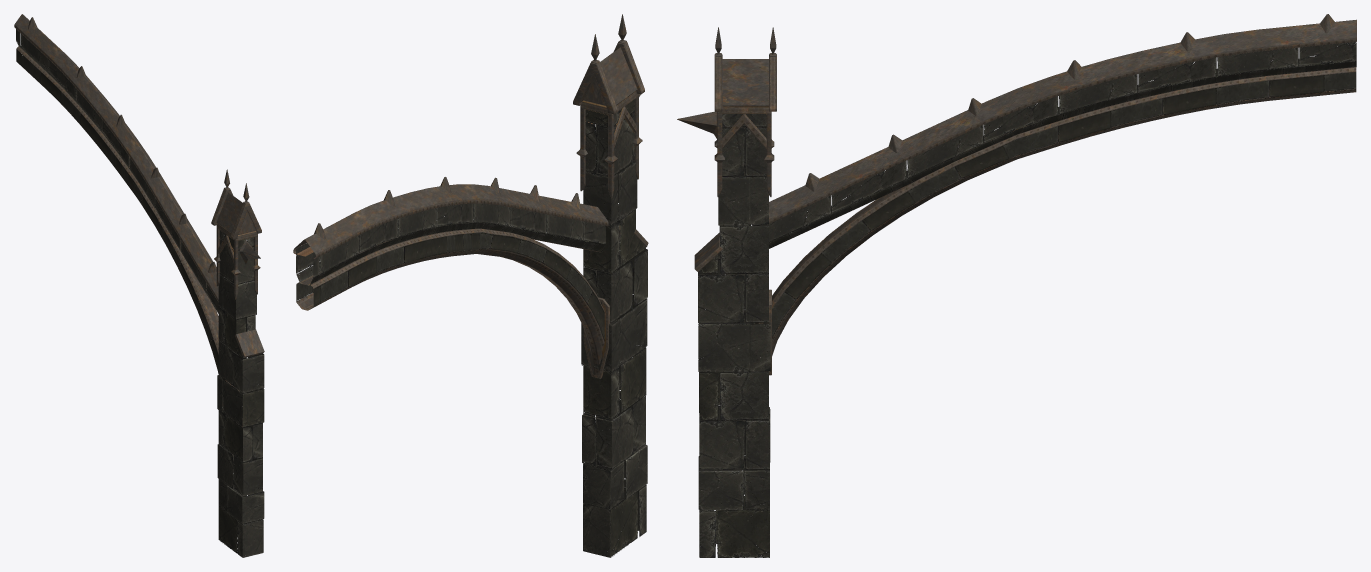
3 views of the same model, side by side, from view 1: azimuth 30°, elevation 25°; view 2: azimuth 150°, elevation 25°; view 3: azimuth 270°, elevation 25° (orthographic). The views are drawn at different scales.
Visible parts, largest first — view 1: SM_Library_Support_Arch_01_LOD0; view 2: SM_Library_Support_Arch_01_LOD0; view 3: SM_Library_Support_Arch_01_LOD0.
Boxes of the visible parts, x1,y1,x2,y2 form: SM_Library_Support_Arch_01_LOD0: (14,14,264,557); SM_Library_Support_Arch_01_LOD0: (293,14,648,557); SM_Library_Support_Arch_01_LOD0: (677,14,1356,557).
Size of the model in its own units: 1.19 by 14.67 by 16.84.
Materials: 3 (3 with a texture image).
